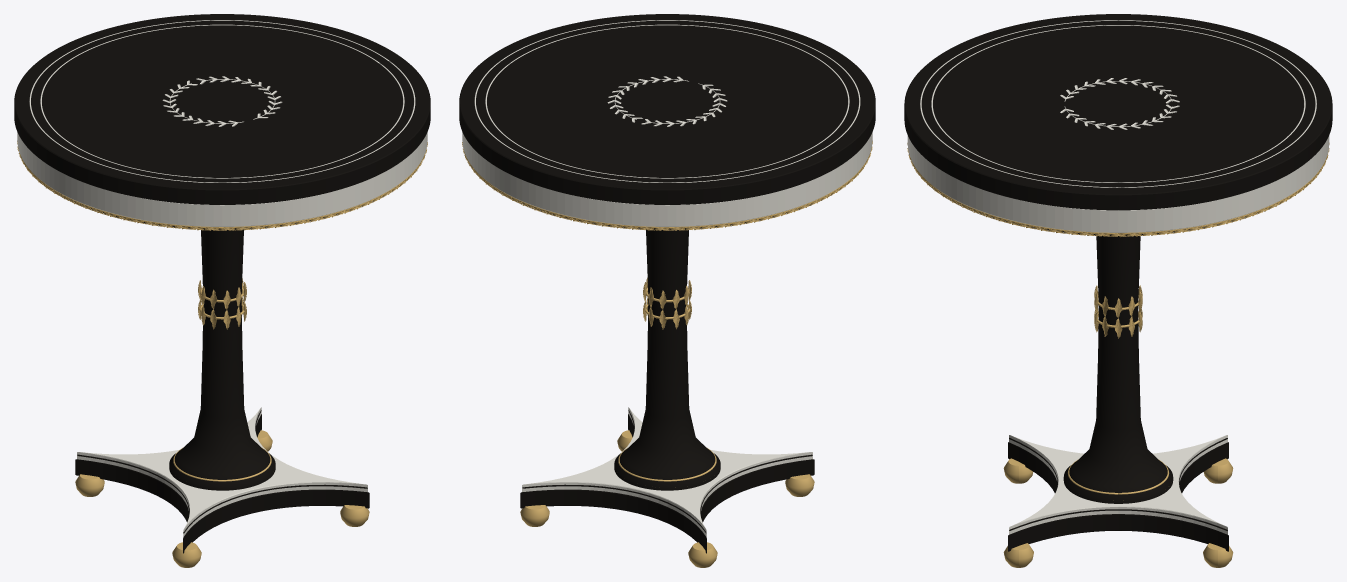
The picture shows the model from 3 angles, left to right: view 1: azimuth 30°, elevation 25°; view 2: azimuth 150°, elevation 25°; view 3: azimuth 270°, elevation 25°; orthographic projection. The views are drawn at different scales.
Visible parts, largest first — view 1: Wellington pedestal side table | navy-5 web batch; view 2: Wellington pedestal side table | navy-5 web batch; view 3: Wellington pedestal side table | navy-5 web batch.
Part boxes in pixels (x1,y1,x2,y2): Wellington pedestal side table | navy-5 web batch: (14,14,430,567); Wellington pedestal side table | navy-5 web batch: (459,14,875,567); Wellington pedestal side table | navy-5 web batch: (904,14,1332,567).
Size of the model in its own units: 0.65 by 0.7007 by 0.65.
